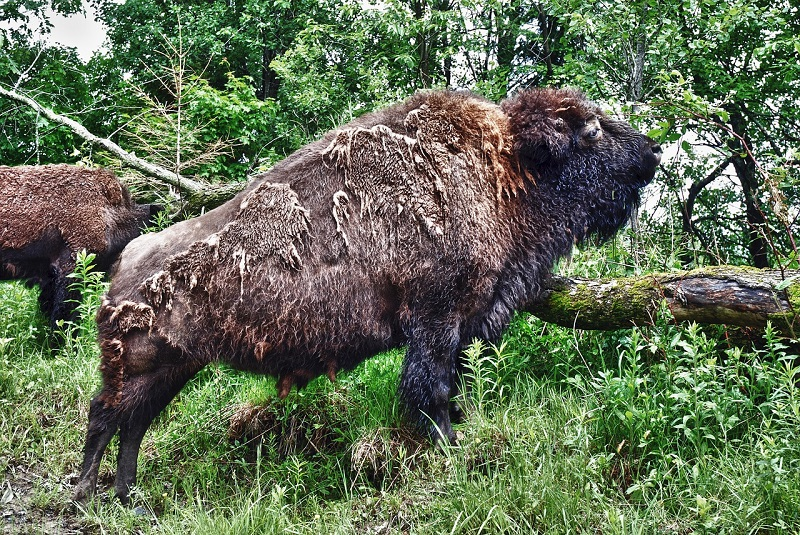zubr: (49, 62, 684, 486)
